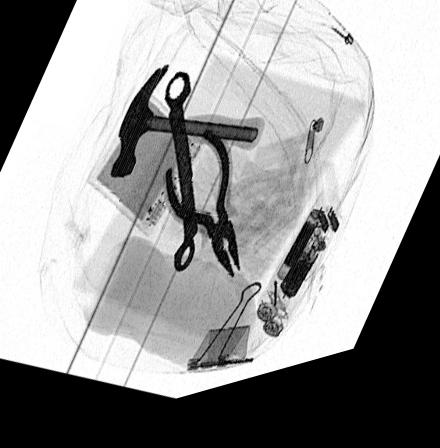Hammer: (108, 74, 263, 184)
Pliers: (161, 137, 240, 293)
Powerbank: (86, 99, 202, 247)
Wrench: (163, 80, 196, 283)
